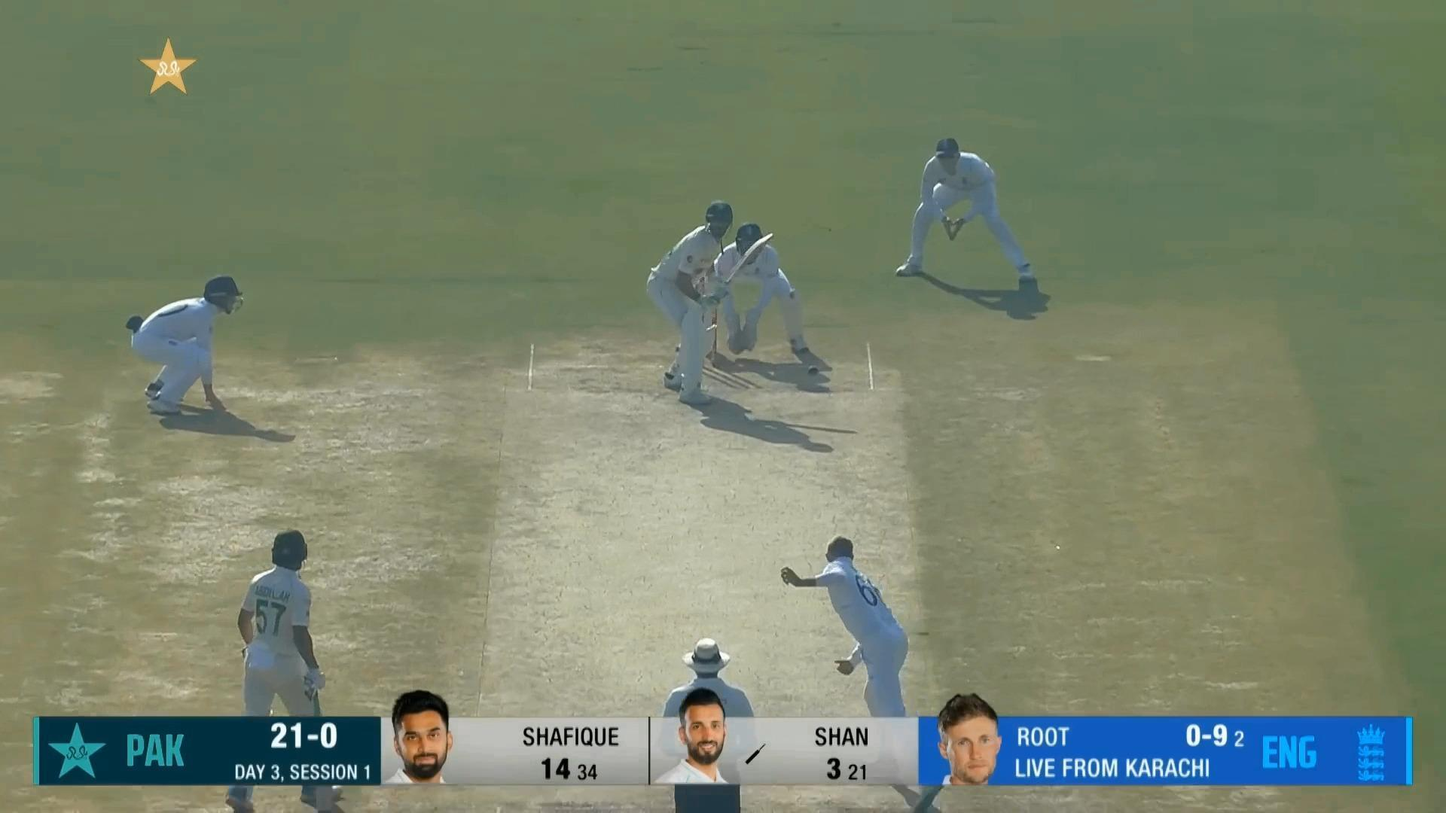BM 1: (645, 199, 774, 406)
BO: (773, 533, 956, 813)
